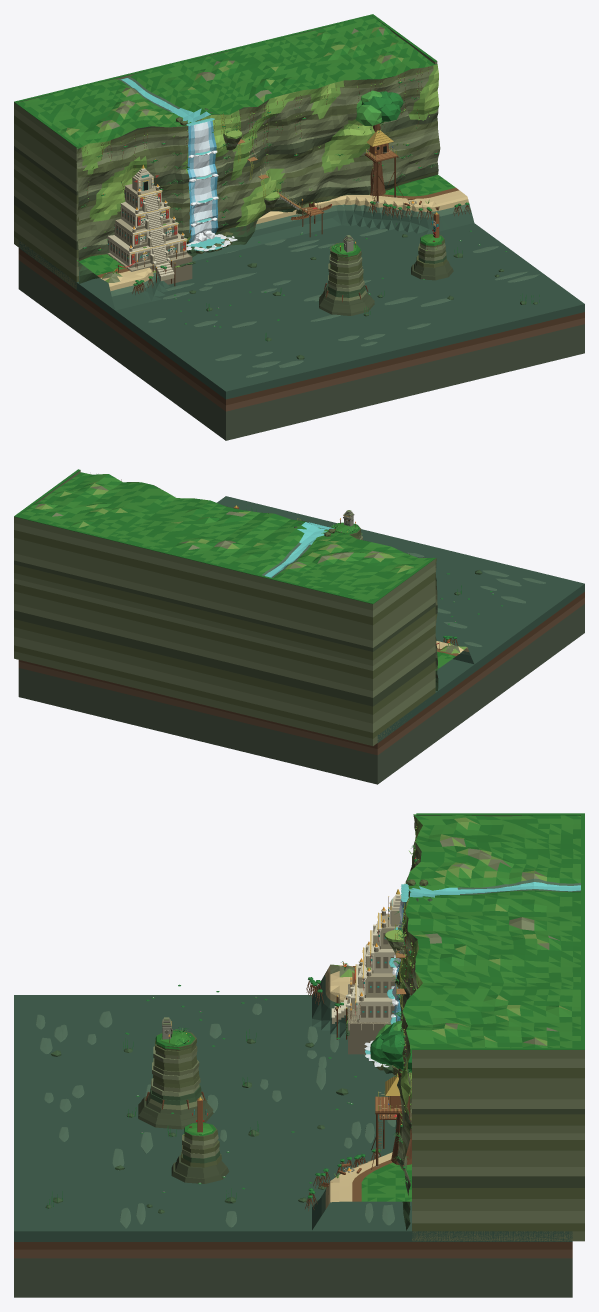
File: Loc_Jungle.fbx
3 views of the same model, one above another, from view 1: azimuth 30°, elevation 25°; view 2: azimuth 150°, elevation 25°; view 3: azimuth 270°, elevation 25° (orthographic). The views are drawn at different scales.
Visible parts, largest first — view 1: Mud, BlockRock, RockA, CapDark, CapGrass, RockB, RockC, Moss, RockDark, MudLight, Earth, MossLight (+18 smaller); view 2: RockA, RockB, BlockRock, RockC, Mud, CapDark, CapGrass, RockDark, Earth, Soil, Moss, MudLight (+1 smaller); view 3: Mud, CapGrass, BlockRock, CapDark, RockA, RockB, RockC, RockDark, Earth, MudLight, Soil, Moss (+10 smaller).
Part boxes in pixels (box(x1,y1,x2,y2)): Mud: box(18, 209, 584, 399); BlockRock: box(18, 260, 584, 440); RockA: box(14, 24, 445, 301); CapDark: box(14, 14, 452, 275); CapGrass: box(19, 18, 455, 274); RockB: box(14, 65, 446, 284); RockC: box(14, 28, 446, 291); Moss: box(66, 26, 438, 282); RockDark: box(14, 76, 453, 315); MudLight: box(110, 77, 539, 377); Earth: box(18, 254, 584, 411); MossLight: box(95, 69, 438, 224); RockA: box(14, 470, 460, 745); RockB: box(14, 482, 437, 738); BlockRock: box(18, 604, 584, 784); RockC: box(14, 511, 456, 732); Mud: box(217, 496, 584, 743); CapDark: box(14, 469, 455, 670); CapGrass: box(21, 473, 453, 667); RockDark: box(14, 485, 437, 706); Earth: box(18, 597, 584, 755); Soil: box(18, 592, 584, 748); Moss: box(35, 481, 466, 653); MudLight: box(262, 542, 545, 655); Mud: box(14, 980, 572, 1241); CapGrass: box(160, 814, 583, 1201); BlockRock: box(14, 1258, 572, 1297); CapDark: box(155, 813, 584, 1201); RockA: box(149, 815, 584, 1241); RockB: box(153, 815, 584, 1231); RockC: box(151, 837, 584, 1223); RockDark: box(138, 842, 584, 1210); Earth: box(14, 1249, 572, 1258); MudLight: box(36, 878, 580, 1228); Soil: box(14, 1242, 572, 1249); Moss: box(332, 817, 570, 1114).
Bounding box in the file's own units: 90.02 × 45.3 × 92.01.
